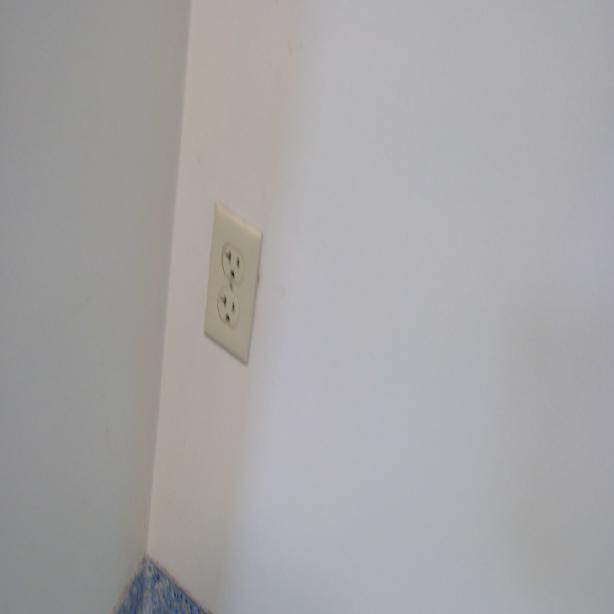typeb: (221, 242, 245, 284), (218, 288, 240, 326)
